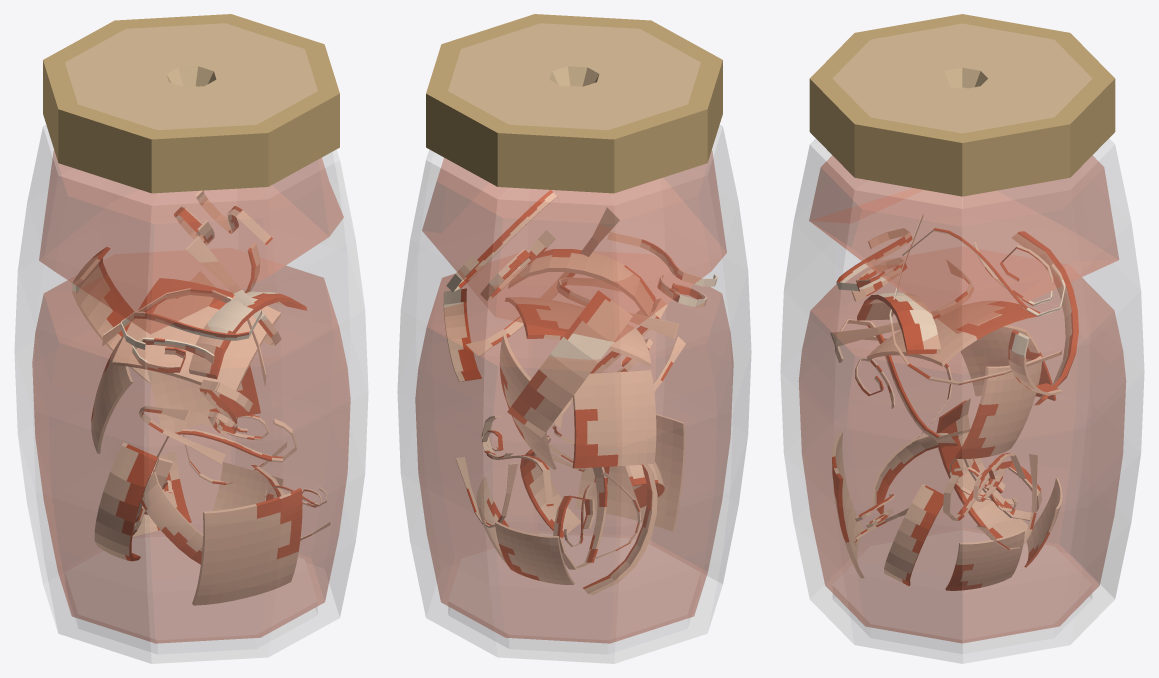
The model's file is KinJi Jar.glb.
The picture shows the model from 3 angles, left to right: view 1: azimuth 30°, elevation 25°; view 2: azimuth 150°, elevation 25°; view 3: azimuth 270°, elevation 25°; orthographic projection.
Visible parts, largest first — view 1: KimJi Jar; view 2: KimJi Jar; view 3: KimJi Jar.
Part boxes in pixels (x1,y1,x2,y2): KimJi Jar: [14, 14, 368, 663]; KimJi Jar: [397, 14, 751, 663]; KimJi Jar: [780, 14, 1144, 663].
Size of the model in its own units: 0.9491 by 1.5 by 0.9491.
